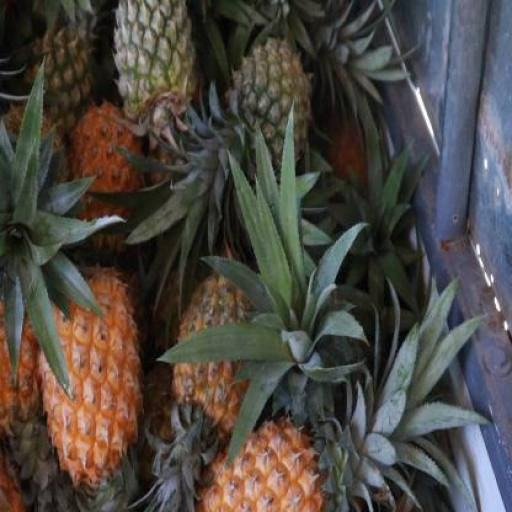Pineapple - v8 v1: (35, 257, 147, 484), (188, 418, 328, 512)
